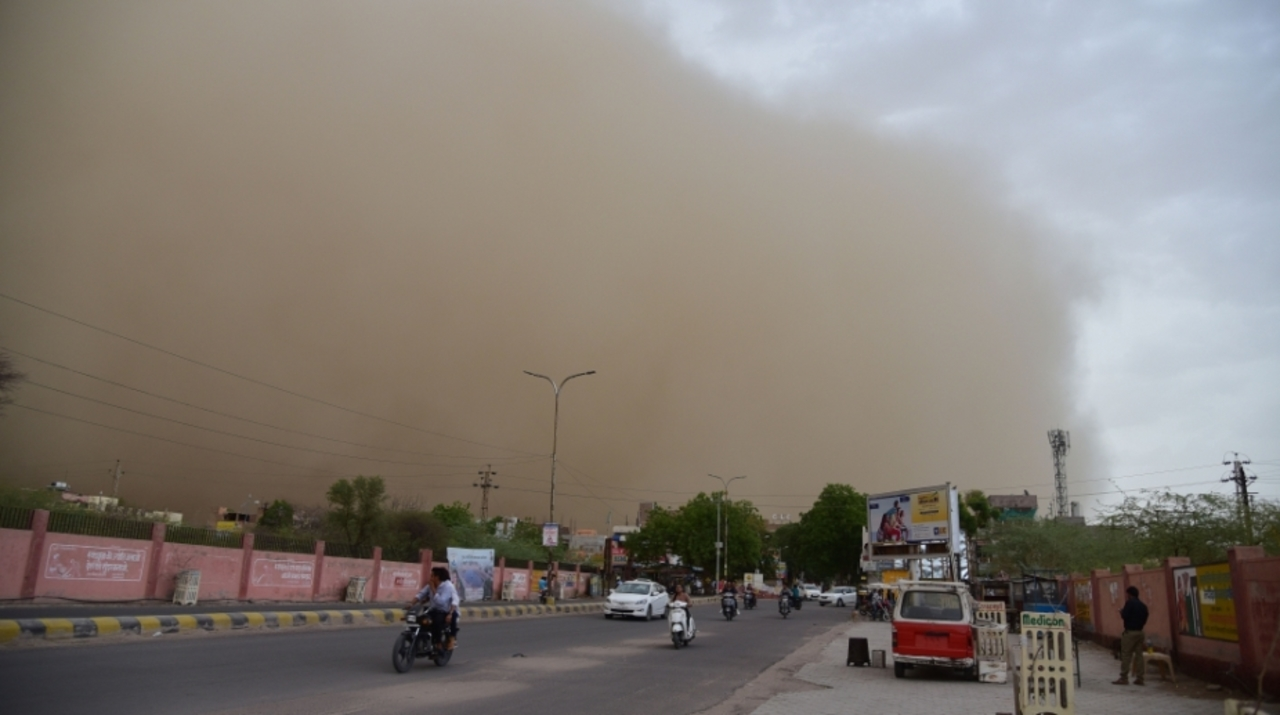car: (887, 579, 980, 678), (604, 580, 670, 621), (819, 585, 857, 606), (796, 582, 821, 600)
motorcycle: (392, 605, 456, 672), (666, 602, 696, 647), (720, 593, 737, 622), (776, 590, 792, 618), (740, 592, 753, 611)
person: (410, 566, 461, 644), (1113, 587, 1147, 687), (669, 585, 690, 629), (721, 579, 735, 609), (780, 576, 792, 610), (741, 574, 752, 601)
